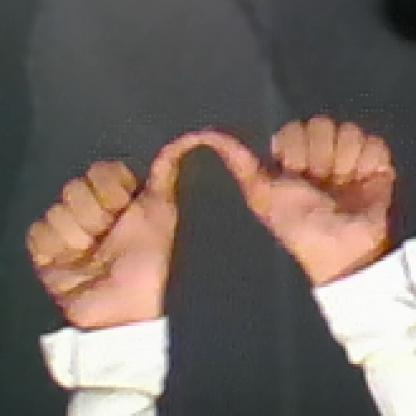A: (23, 105, 403, 324)
